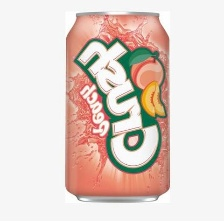can: (61, 8, 173, 205)
